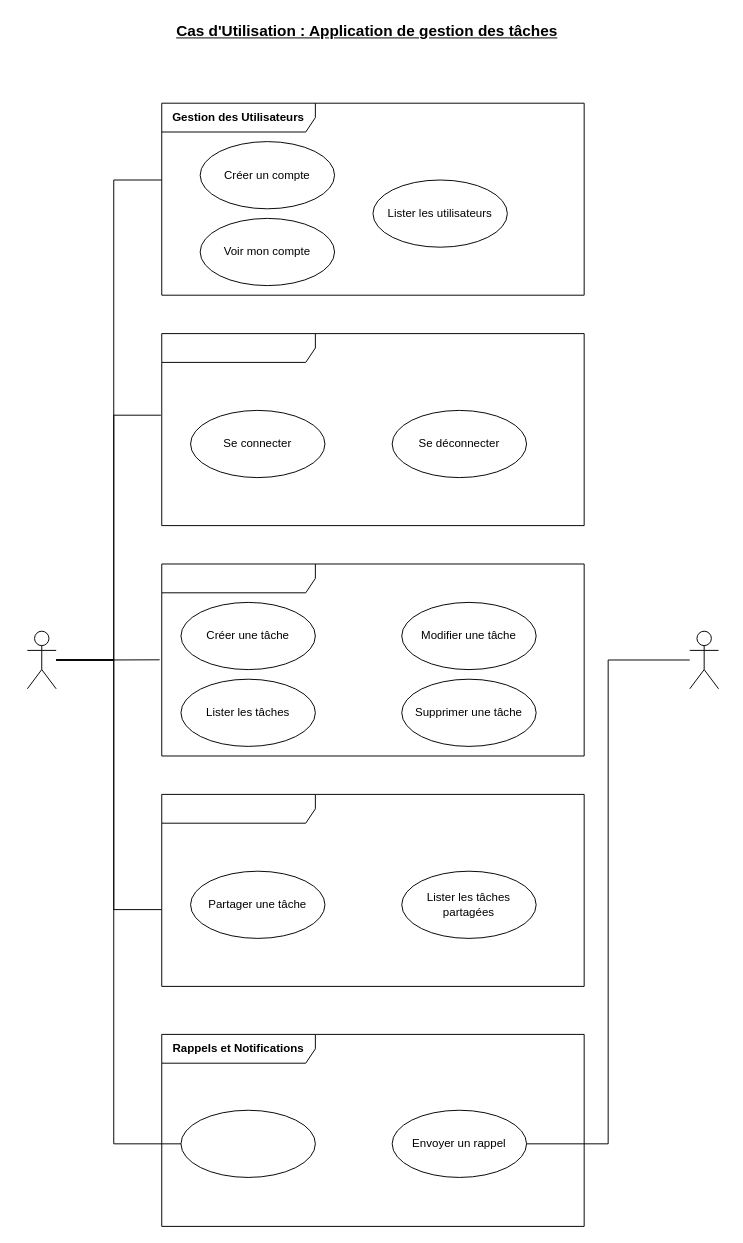
Image size: 743x1243. Some labels were removed from this diagram. The shapes that lost their labels are listed below. From the top down, each one's box as (x1, y1, x2, y2) in pixels, then its label:
(161, 333, 584, 526): Authentification
(26, 630, 56, 689): Utilisateur
(161, 563, 584, 756): Gestion des Tâches
(689, 630, 719, 689): Système
(161, 793, 584, 986): Partage des Tâches
(180, 1109, 315, 1177): Recevoir un rappel
